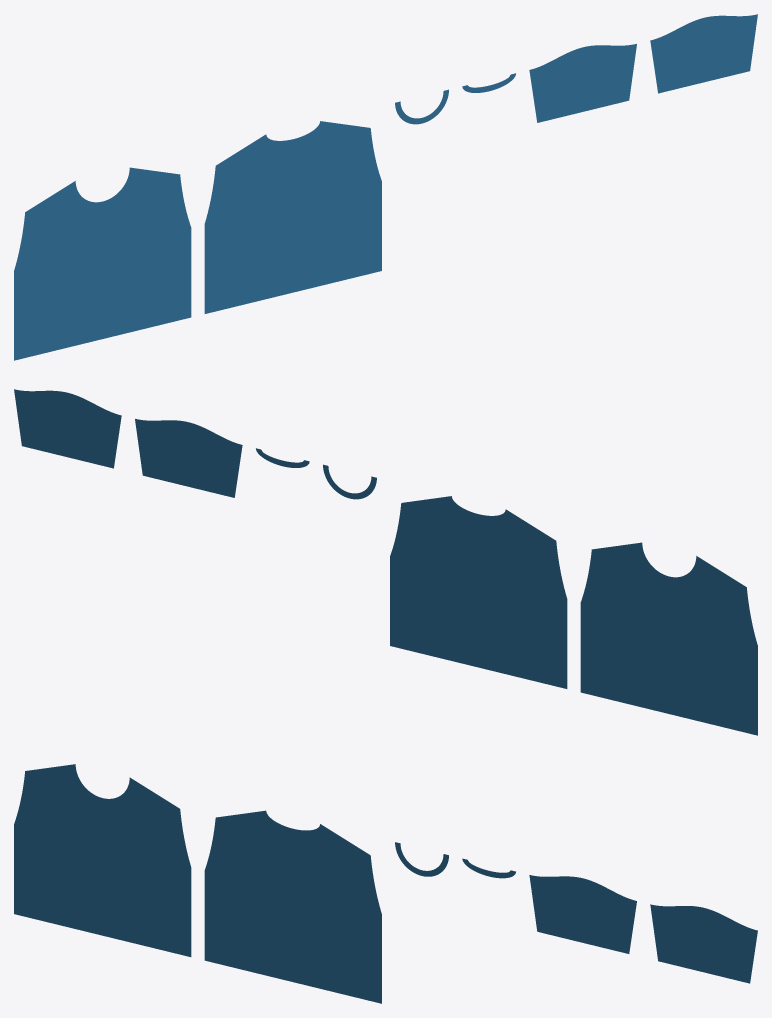
Rendered from camiseta-corta-boxy-algodon-talla-XL.glb.
3 views of the same model, one above another, from view 1: azimuth 30°, elevation 25°; view 2: azimuth 150°, elevation 25°; view 3: azimuth 330°, elevation 25° (orthographic).
Visible parts, largest first — view 1: patron-espalda, patron-delantero, patron-manga-izq, patron-manga-der; view 2: patron-espalda, patron-delantero, patron-manga-izq, patron-manga-der; view 3: patron-espalda, patron-delantero, patron-manga-izq, patron-manga-der, patron-cuello-delantero.
Part boxes in pixels (left/top/right/bottom): patron-espalda: left=204, top=121, right=381, bottom=313; patron-delantero: left=14, top=167, right=191, bottom=360; patron-manga-izq: left=529, top=44, right=636, bottom=122; patron-manga-der: left=650, top=14, right=757, bottom=93; patron-espalda: left=390, top=496, right=567, bottom=688; patron-delantero: left=580, top=542, right=757, bottom=735; patron-manga-izq: left=135, top=419, right=242, bottom=497; patron-manga-der: left=14, top=389, right=121, bottom=468; patron-espalda: left=204, top=810, right=381, bottom=1003; patron-delantero: left=14, top=764, right=191, bottom=956; patron-manga-izq: left=529, top=875, right=636, bottom=953; patron-manga-der: left=650, top=904, right=757, bottom=983; patron-cuello-delantero: left=395, top=842, right=448, bottom=876.
Bounding box in the file's own units: 2.83 × 0.635 × 0.
